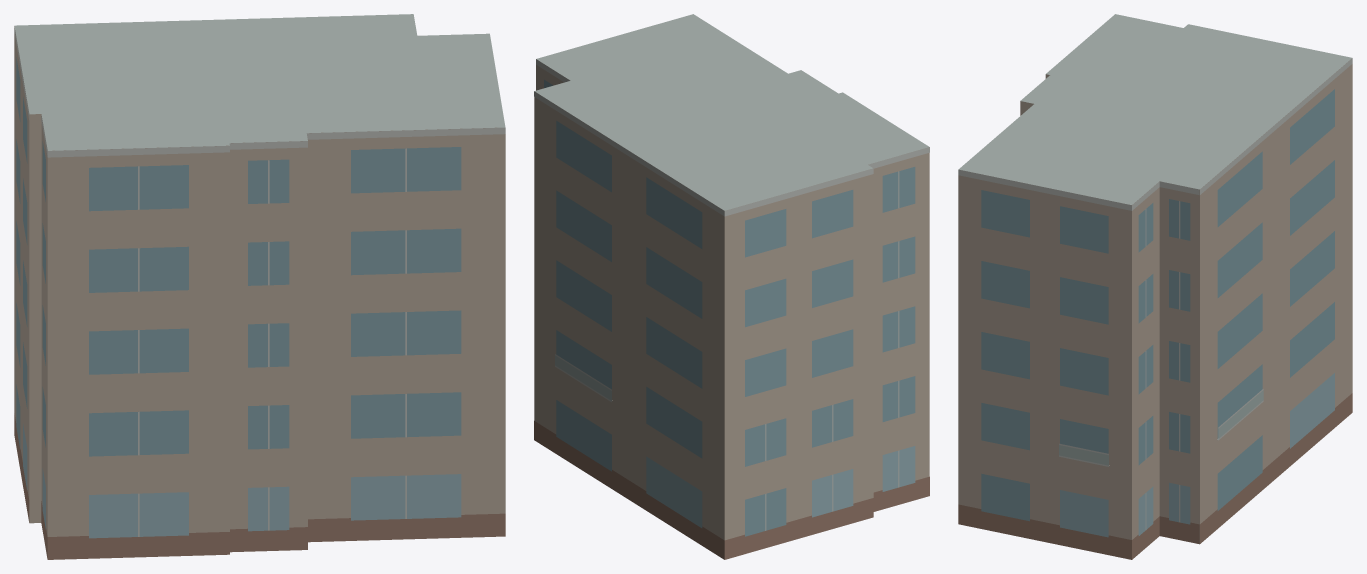
Rendered from survey-upis-32696220.glb.
3 renders of one model, left to right at view 1: azimuth 30°, elevation 25°; view 2: azimuth 150°, elevation 25°; view 3: azimuth 270°, elevation 25°, orthographic. The views are drawn at different scales.
Parts seen in each view (by area): view 1: survey-upis-32696220.tmp; view 2: survey-upis-32696220.tmp; view 3: survey-upis-32696220.tmp.
Boxes of the visible parts, box(x1,y1,x2,y2) form: survey-upis-32696220.tmp: box(14, 14, 505, 559); survey-upis-32696220.tmp: box(534, 14, 929, 559); survey-upis-32696220.tmp: box(958, 14, 1352, 559).
Size of the model in its own units: 17.35 by 15 by 15.12.
